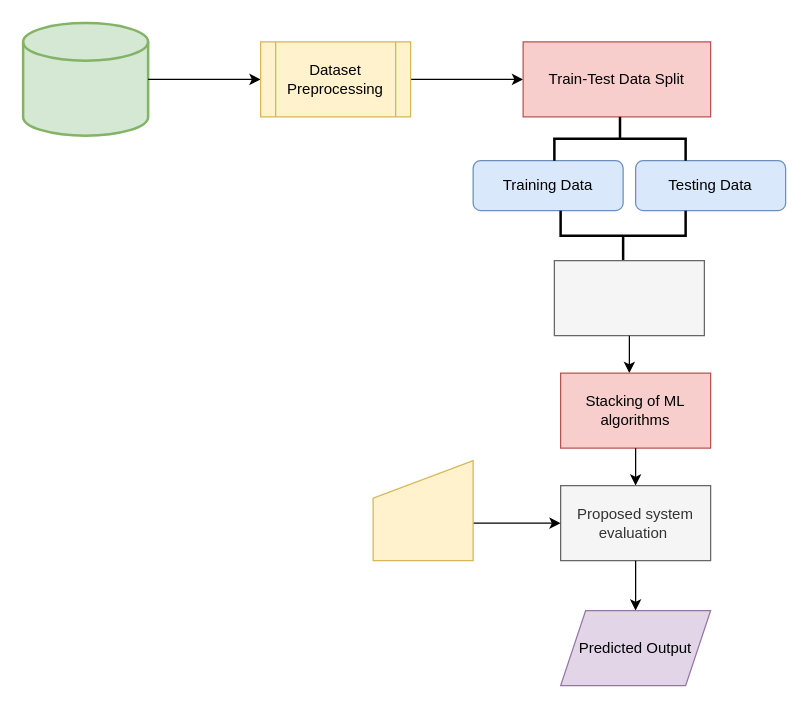
This 808x708 diagram has some shape labels left out. Each missing label, with the box of its shape:
Dataset: (21, 21, 149, 136)
Input given by user: (372, 459, 473, 561)
Model Training of proposed ML algorithms: (553, 259, 704, 336)
